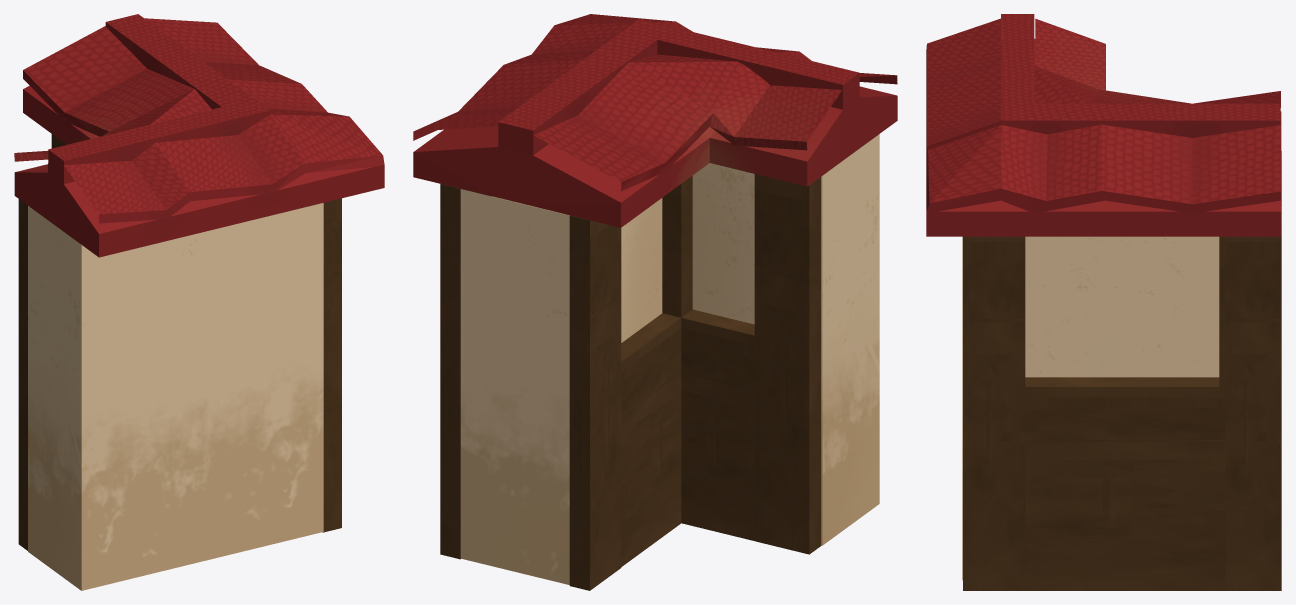
File: WallCorner.fbx
The picture shows the model from 3 angles, left to right: view 1: azimuth 30°, elevation 25°; view 2: azimuth 150°, elevation 25°; view 3: azimuth 270°, elevation 25°; orthographic projection. The views are drawn at different scales.
Visible parts, largest first — view 1: WallCorner, WallDecPillar011, WallDecPillar012; view 2: WallCorner, WallDecPillar012, WallDecPillar, WallDecPillar015, WallDecPillar014, WallDecPillar010, WallDecPillar016; view 3: WallCorner, WallDecPillar013, WallDecPillar011, WallDecPillar010.
Part boxes in pixels (box(x1,y1,x2,y2)): WallCorner: box(14, 14, 384, 590); WallDecPillar011: box(322, 198, 341, 532); WallDecPillar012: box(18, 199, 78, 550); WallCorner: box(413, 14, 897, 584); WallDecPillar012: box(754, 174, 821, 554); WallDecPillar: box(569, 215, 621, 590); WallDecPillar015: box(681, 309, 754, 540); WallDecPillar014: box(621, 313, 681, 566); WallDecPillar010: box(440, 184, 491, 559); WallDecPillar016: box(662, 176, 692, 317); WallCorner: box(926, 14, 1281, 580); WallDecPillar013: box(1025, 377, 1225, 590); WallDecPillar011: box(963, 236, 1025, 590); WallDecPillar010: box(1219, 214, 1281, 590).
Bounding box in the file's own units: 25.4 × 35.39 × 25.78.
Materials: 2 (2 with a texture image).
